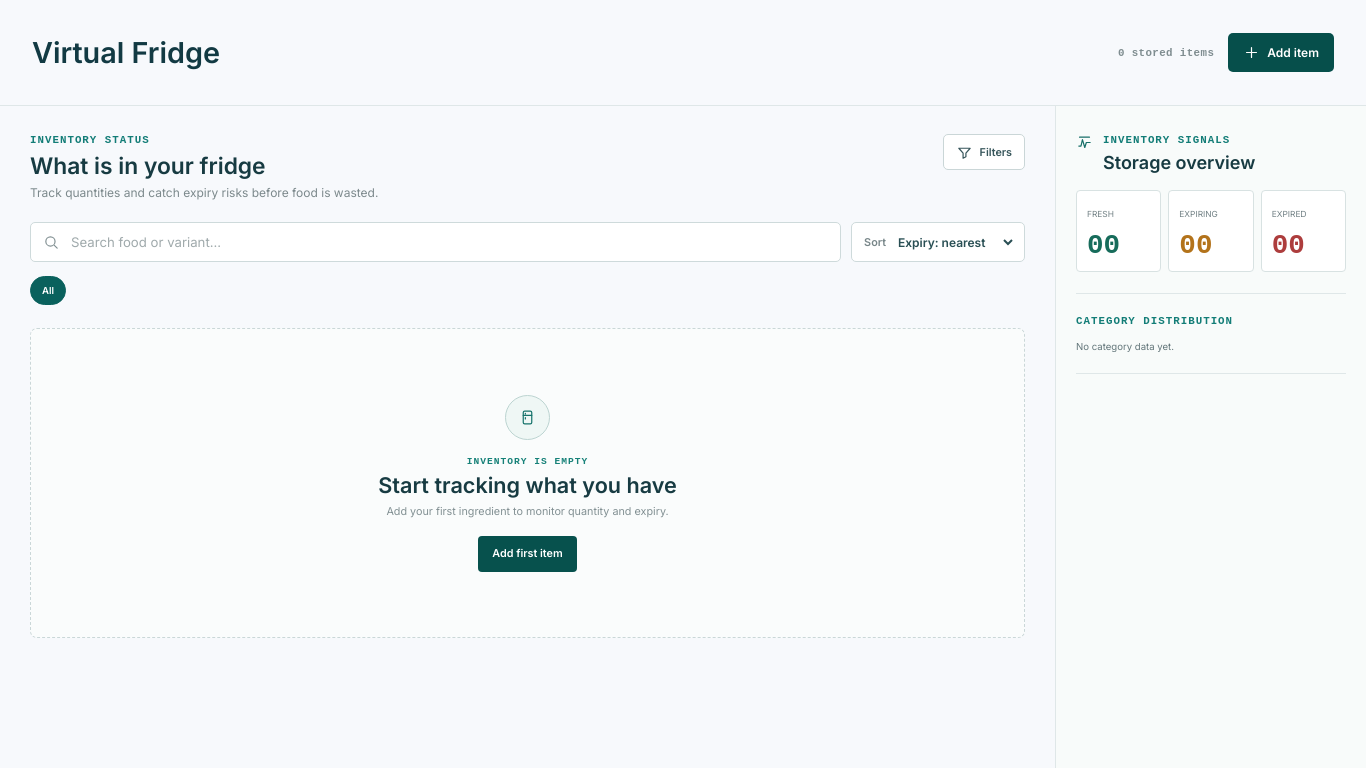
Virtual Fridge ingredient search › ignores an older response after the query changes
Click the button "Add item" at (1281, 52), box x1=1228 y1=33 x2=1334 y2=72
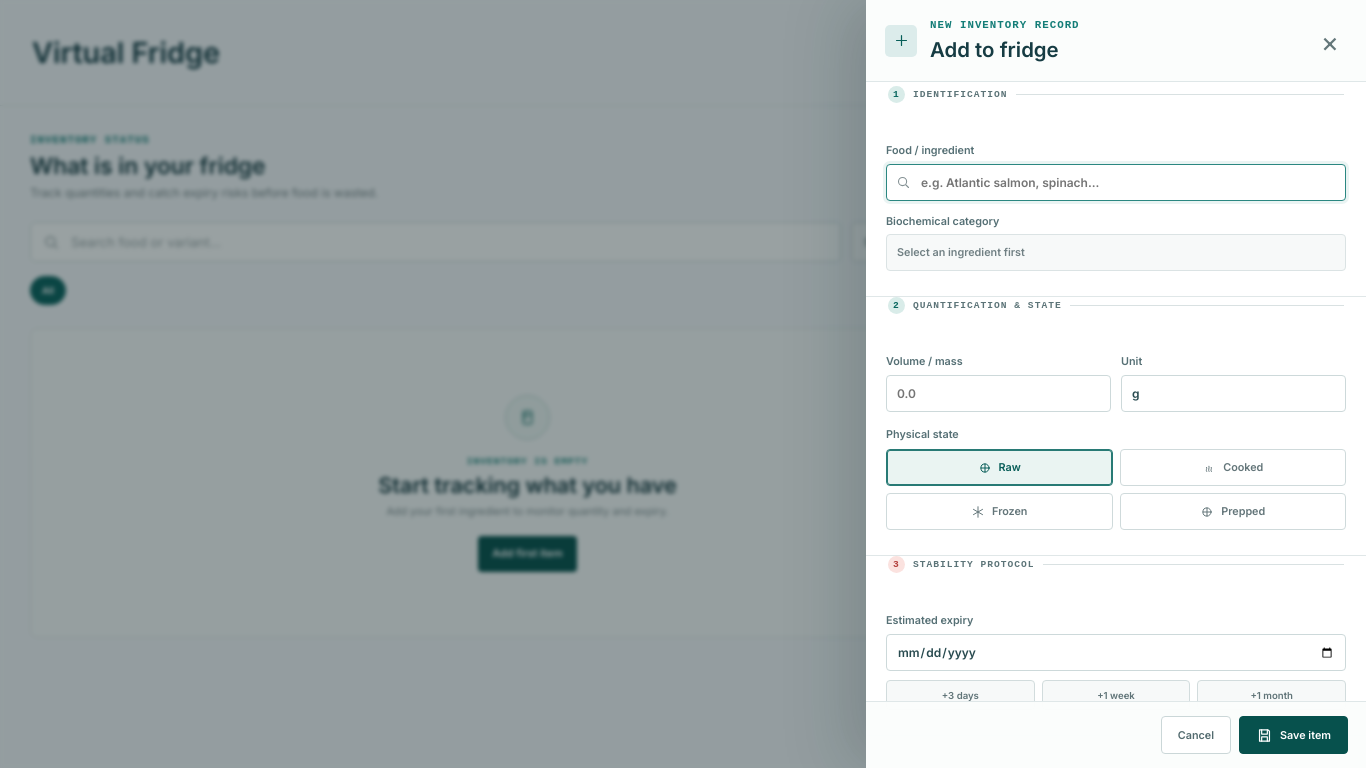
Type "pork" into the field with placeholder "e.g. Atlantic salmon, spinach..." at (1116, 182), box x1=886 y1=164 x2=1346 y2=201
Wait 250 ms
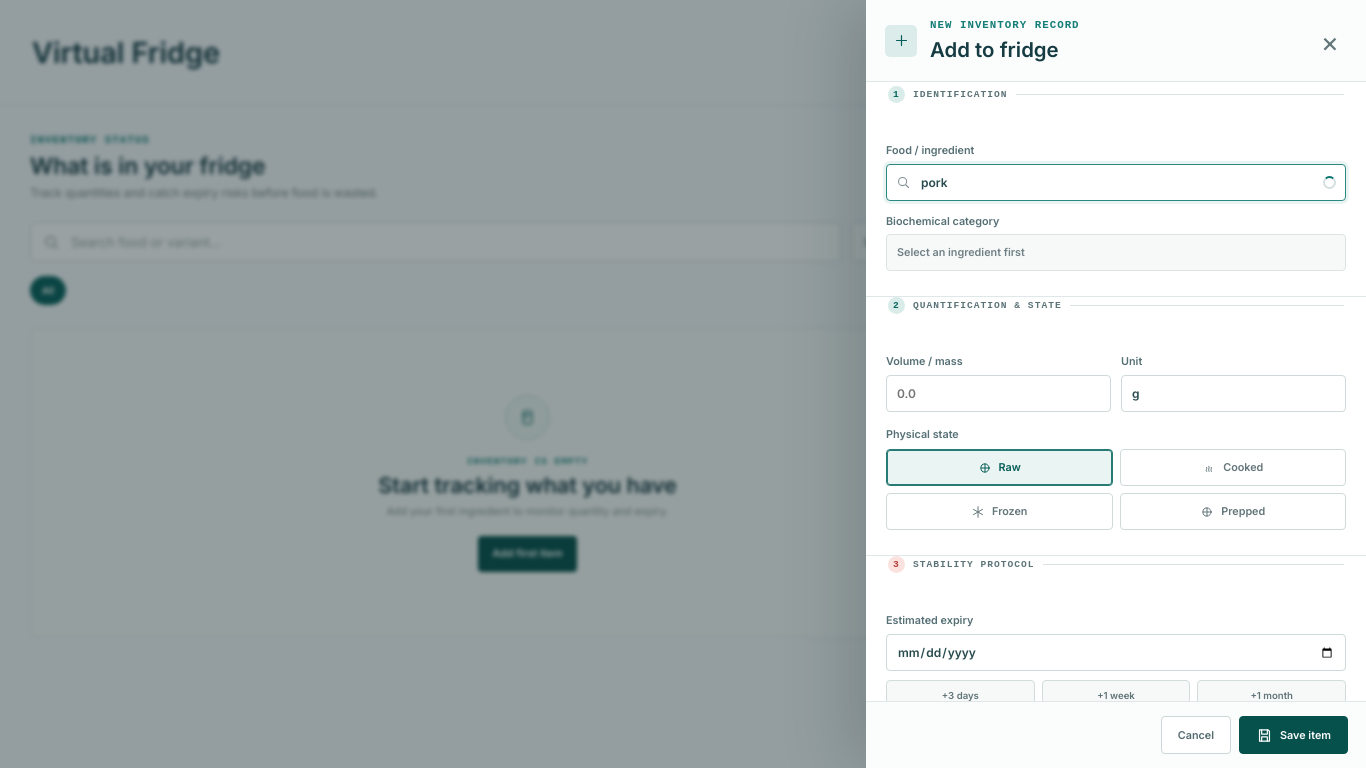
Replace the text in the field with placeholder "e.g. Atlantic salmon, spinach..." with "beef" at (1116, 182), box x1=886 y1=164 x2=1346 y2=201
Wait 250 ms
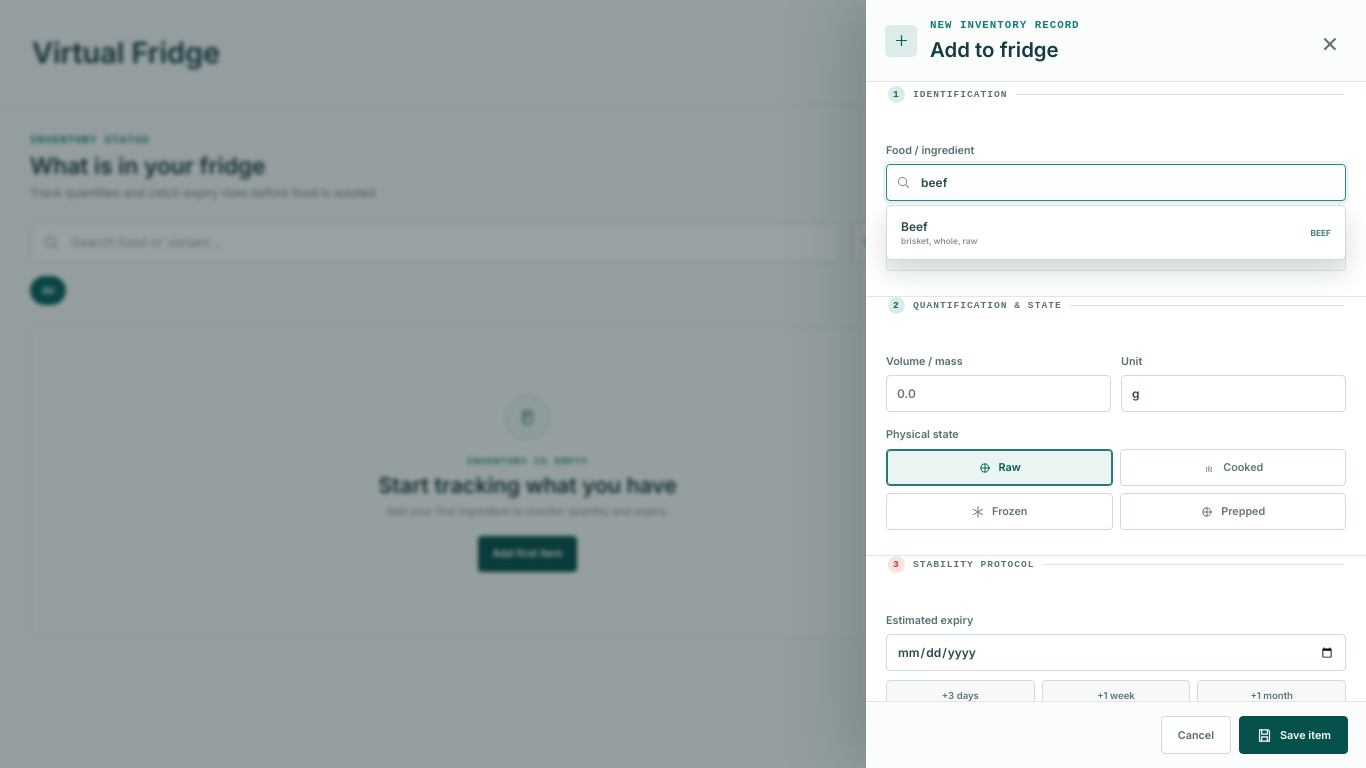
Expected: the button "Pork" is not shown
Result: the button "Beef brisket, whole, raw Beef" is shown at x1=891 y1=210 x2=1341 y2=255
